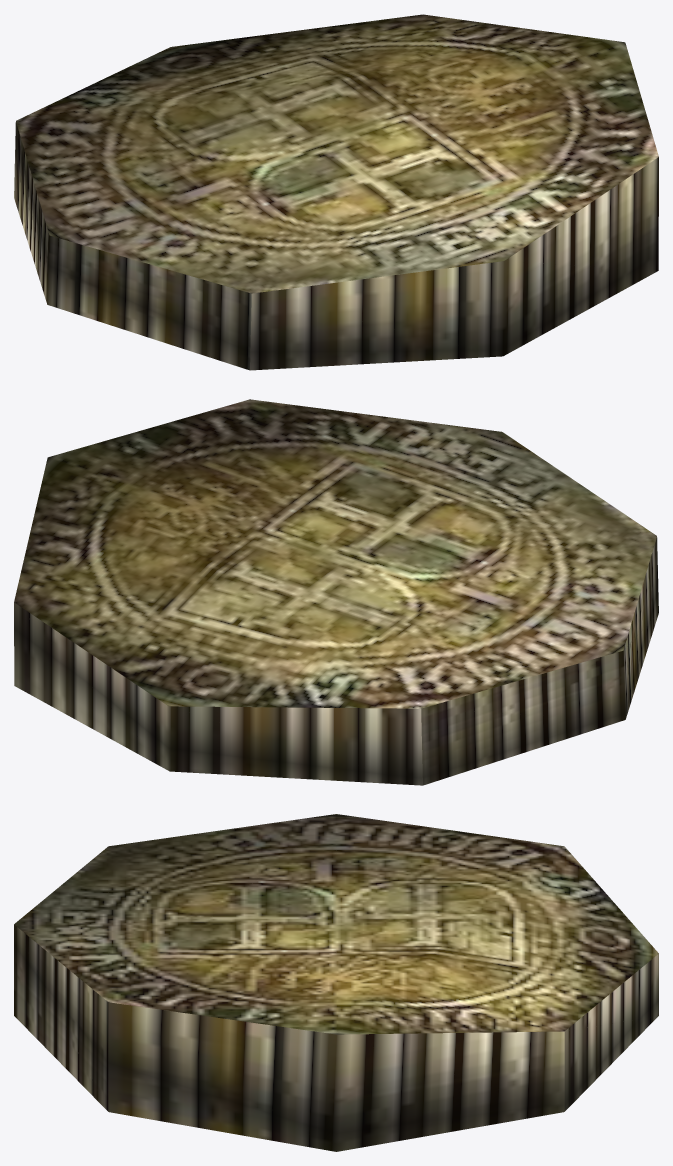
Rendered from ITMI_OLDCOIN.glb.
3 views of the same model, one above another, from view 1: azimuth 30°, elevation 25°; view 2: azimuth 150°, elevation 25°; view 3: azimuth 270°, elevation 25° (orthographic). The views are drawn at different scales.
Parts seen in each view (by area): view 1: Mesh; view 2: Mesh; view 3: Mesh.
Boxes of the visible parts, <box> form: Mesh: <box>14,14,658,370</box>; Mesh: <box>14,399,658,785</box>; Mesh: <box>14,814,658,1151</box>.
Bounding box in the file's own units: 0.1 × 0.0201 × 0.1.
1 material, 1 textured.
